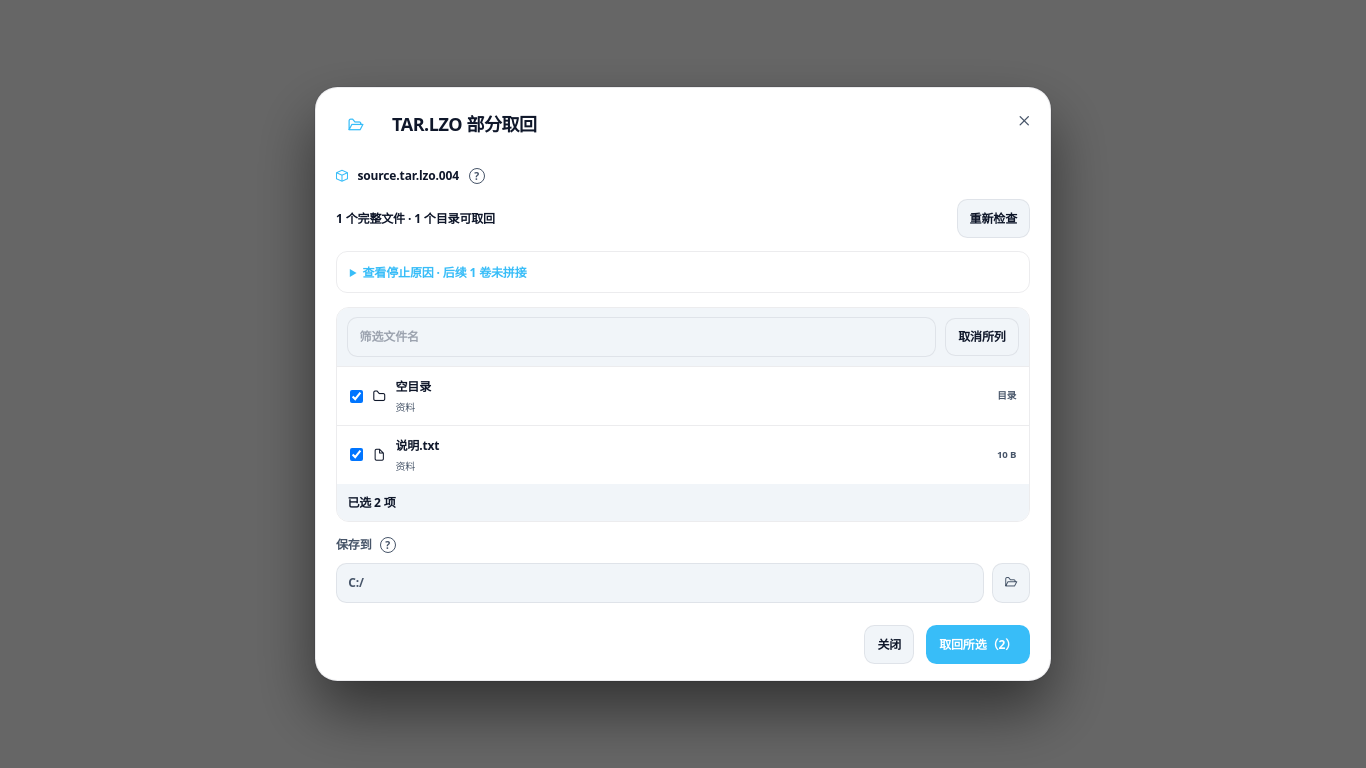
Test case: tarlzo175 an empty folder can be taken alone without counting it as a file or selecting children
Click the checkbox labelled "说明.txt 资料 10 B": (356, 455) x1=350 y1=448 x2=363 y2=462
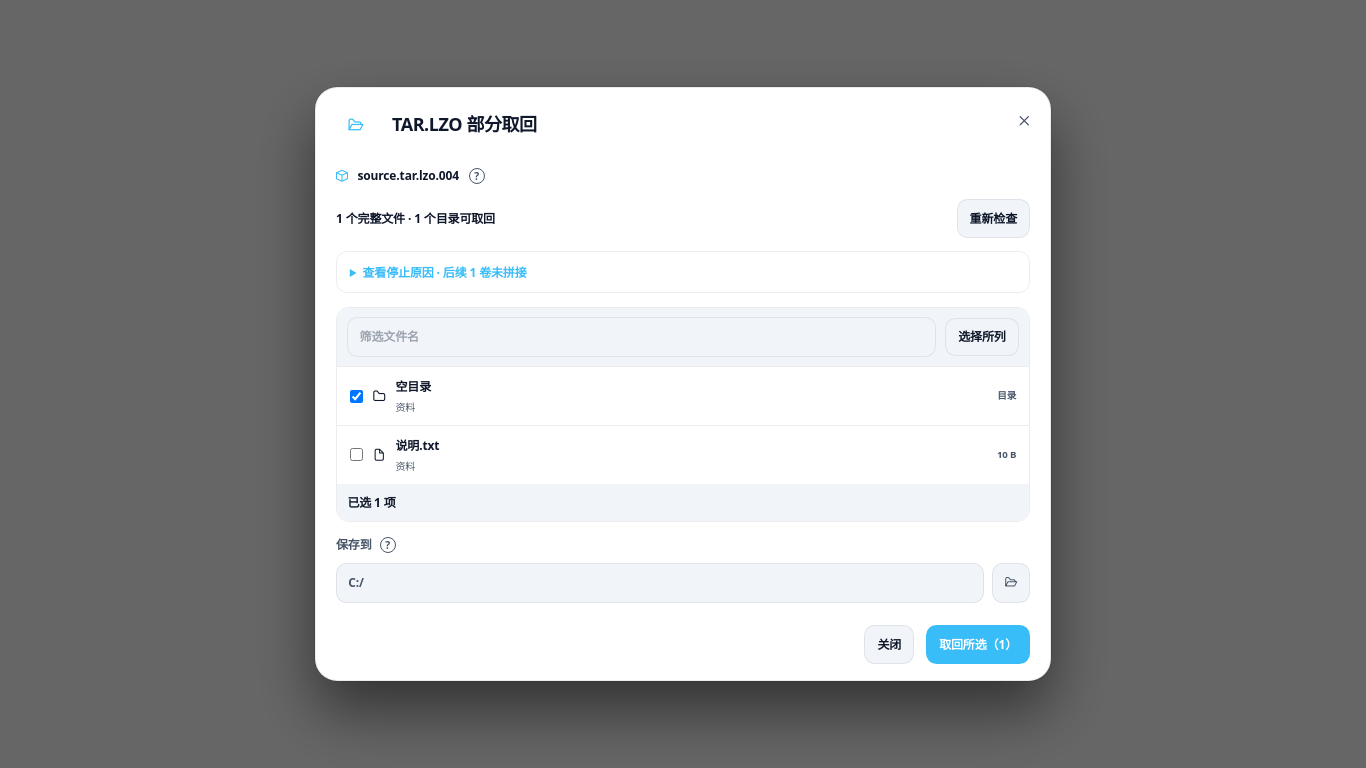
Replace the text in the field with test id "lzop-recovery-output" with "D:/result": (660, 583) x1=336 y1=562 x2=984 y2=603
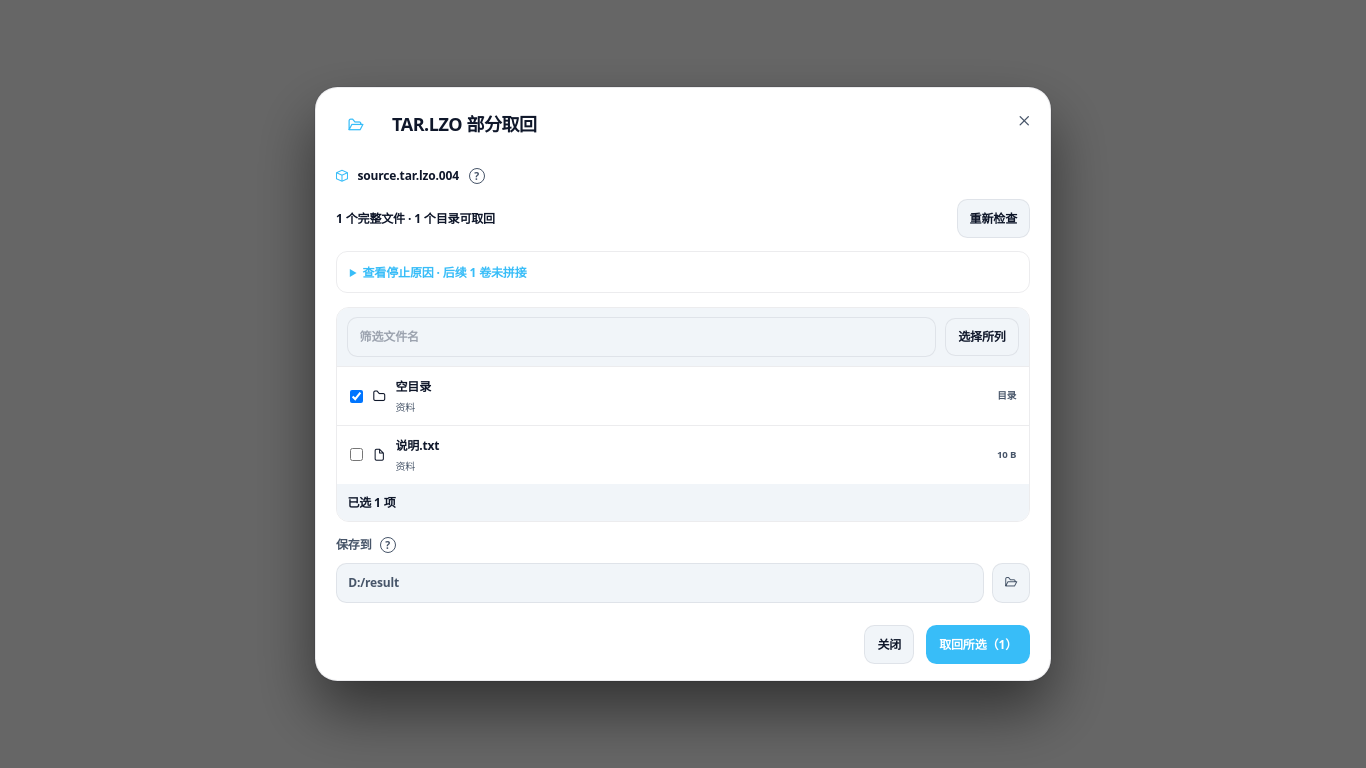
Click the button with test id "lzop-recovery-confirm": (978, 644) x1=926 y1=625 x2=1030 y2=664
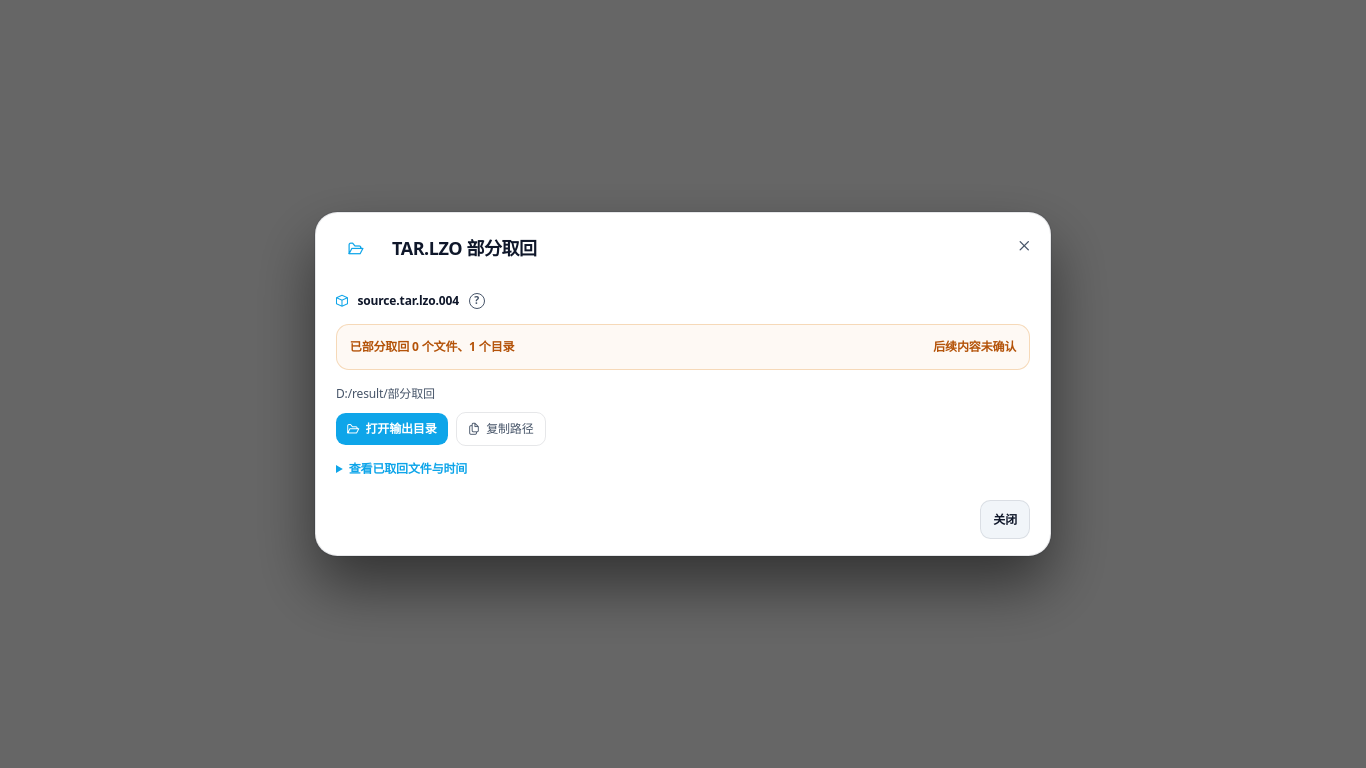
Result: the element with test id "lzop-recovery-result" shows "0 个文件、1 个目录" at x1=336 y1=324 x2=1030 y2=370
